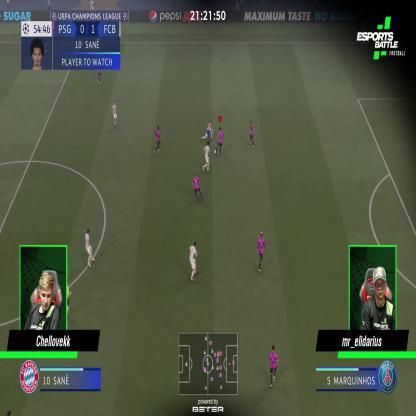ball: (214, 150, 216, 154)
